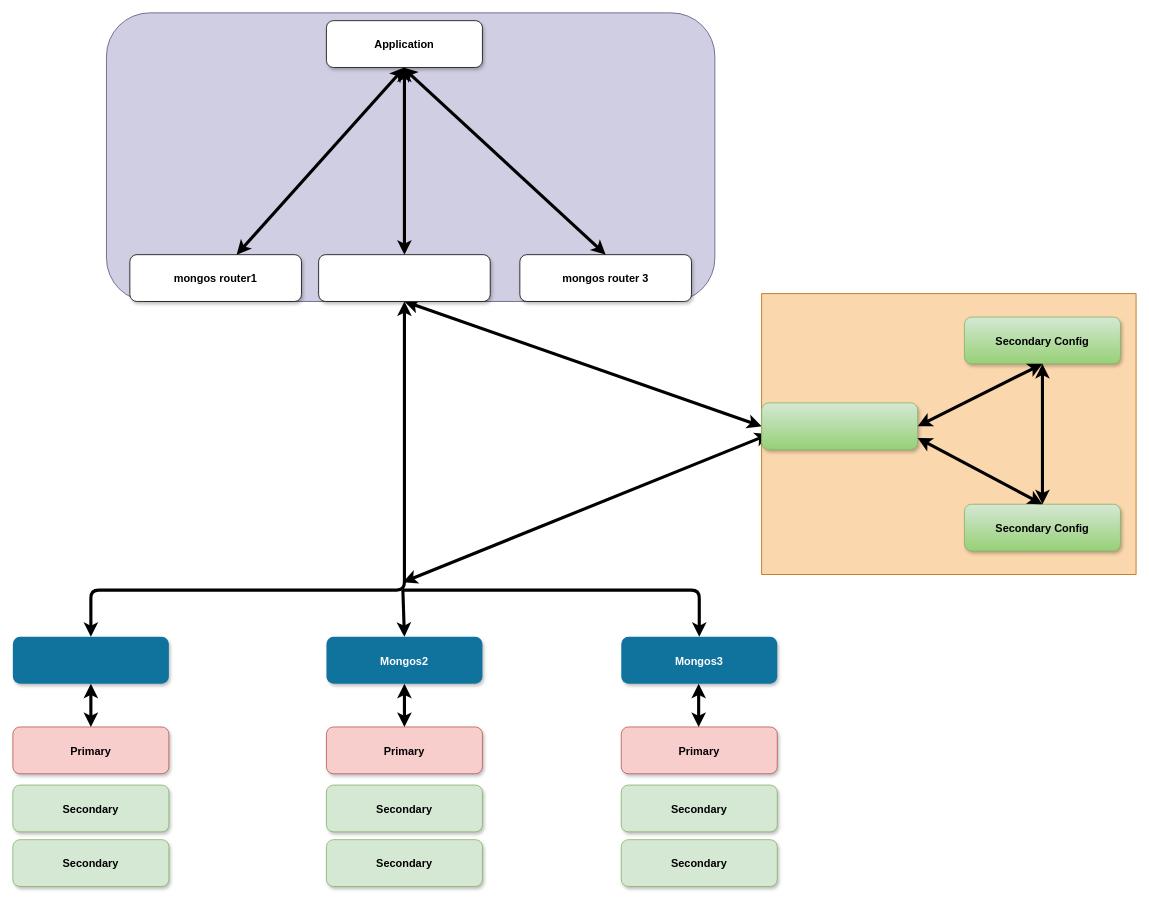
The diagram is 1149 pixels wide and 899 high, and some of its shapes have lost their labels. Each missing label, with the centre of its shape:
mongos router2: [405,279]
Mongos1: [91,661]
Primary Config: [840,427]
